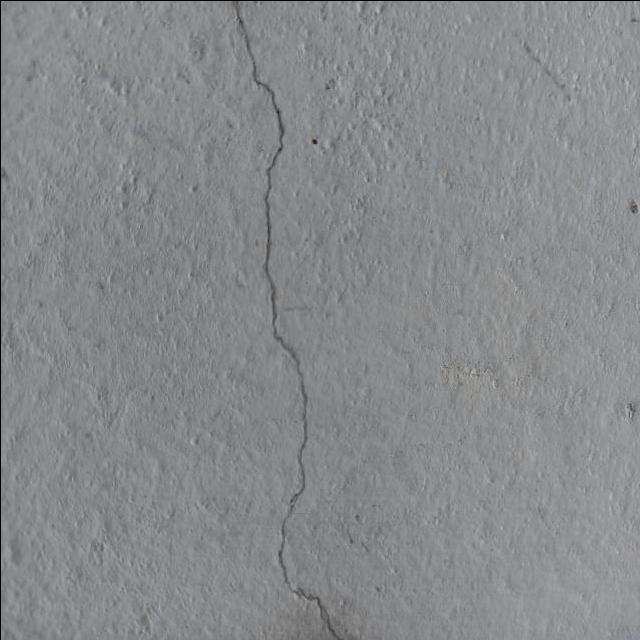SurfaceCrack: (184, 0, 363, 640)
